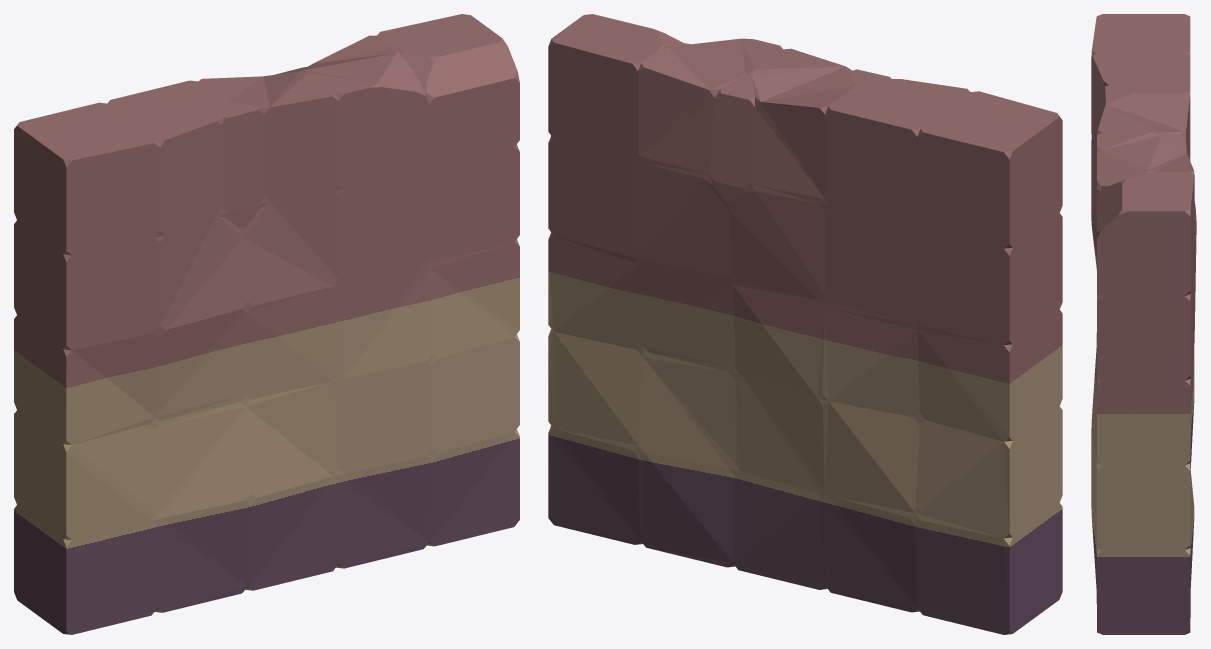
The model's file is Wall 1.002.fbx.
3 views of the same model, side by side, from view 1: azimuth 30°, elevation 25°; view 2: azimuth 150°, elevation 25°; view 3: azimuth 270°, elevation 25° (orthographic). The views are drawn at different scales.
Visible parts, largest first — view 1: Wall 1.002; view 2: Wall 1.002; view 3: Wall 1.002.
Boxes of the visible parts, <box> form: Wall 1.002: <box>14,14,519,634</box>; Wall 1.002: <box>548,14,1062,634</box>; Wall 1.002: <box>1091,14,1196,634</box>.
Size of the model in its own units: 500 by 500 by 113.
